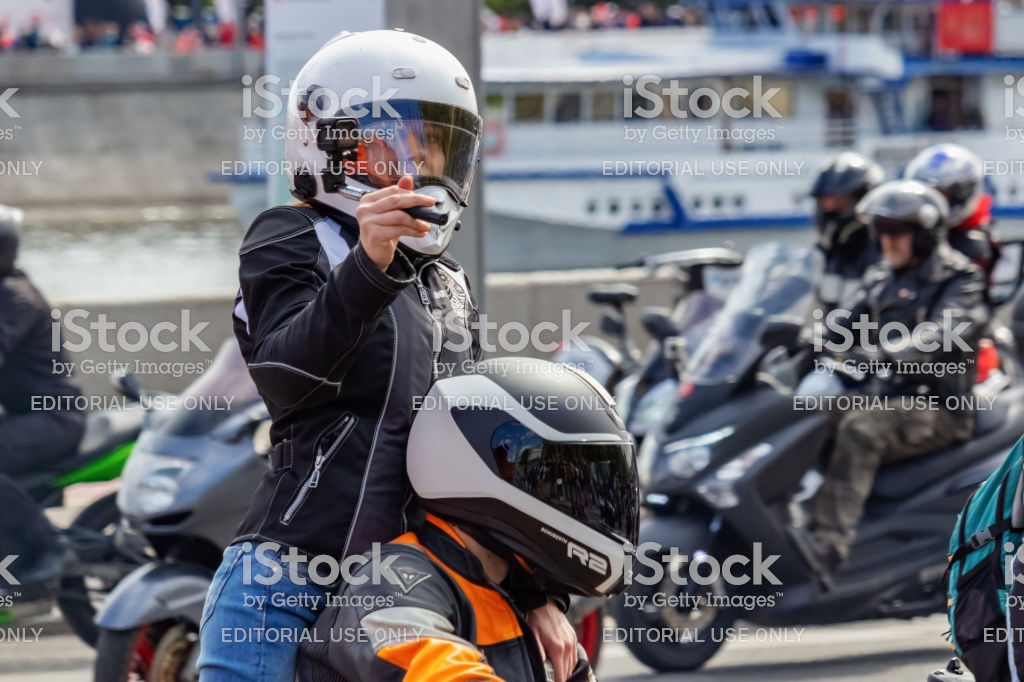helmet: (421, 355, 663, 584), (287, 28, 475, 252), (865, 181, 970, 263)
